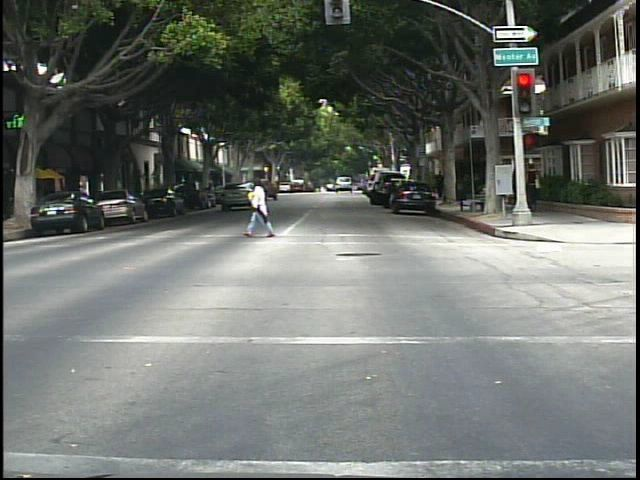person: (243, 172, 280, 240), (527, 156, 546, 214), (379, 174, 401, 215), (435, 169, 447, 201)
